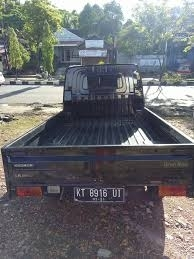plate: (74, 187, 123, 202)
